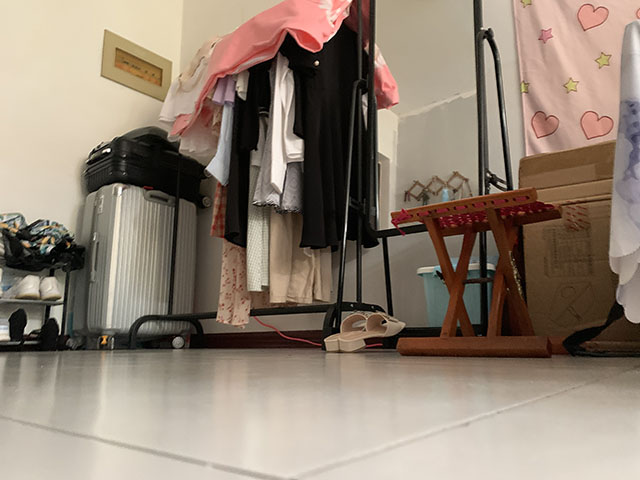slippers: (323, 309, 407, 354)
stool: (390, 186, 570, 358)
wire: (252, 315, 383, 349)
